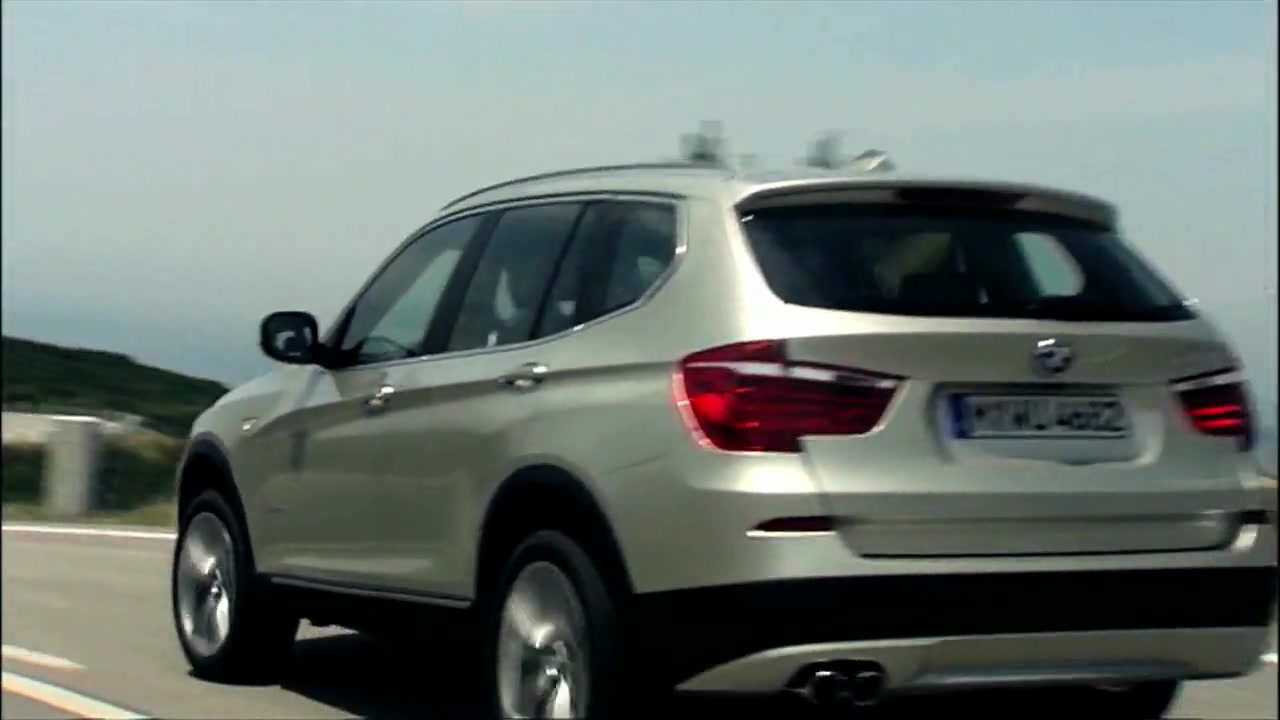car: (169, 154, 1280, 720)
